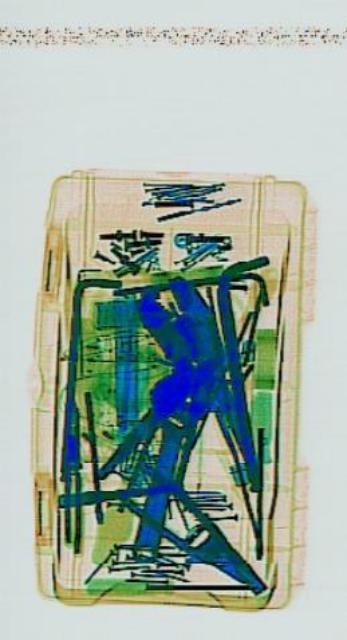Pliers: (122, 448, 269, 616)
Wrench: (117, 348, 202, 576)
